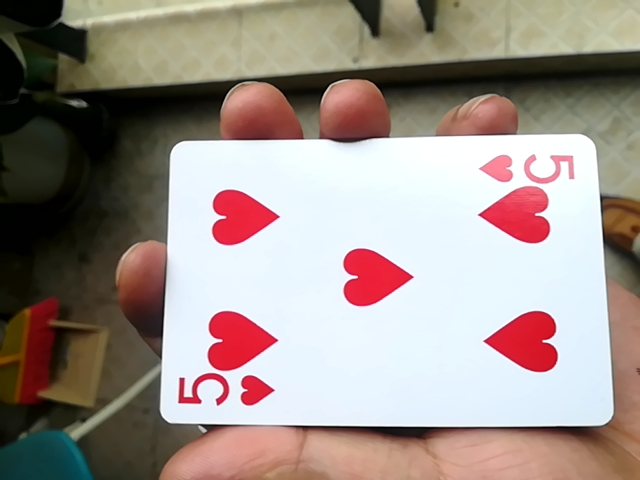hx 5: (146, 129, 606, 440)
